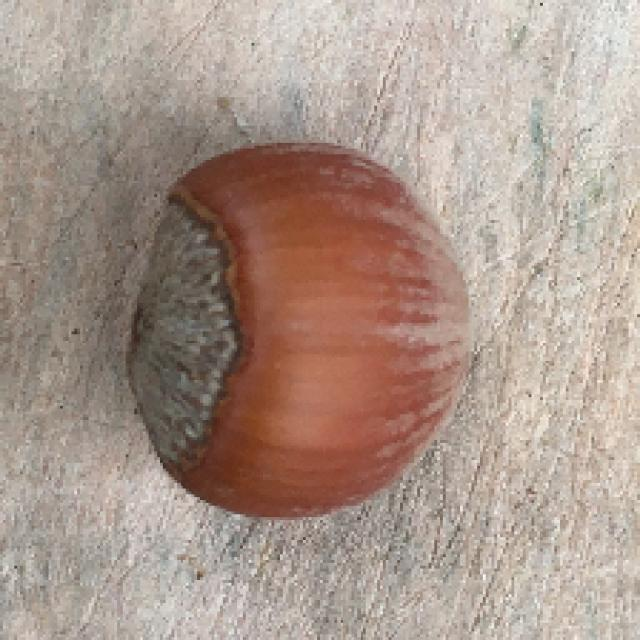qualityHazelnut: (117, 123, 480, 531)
